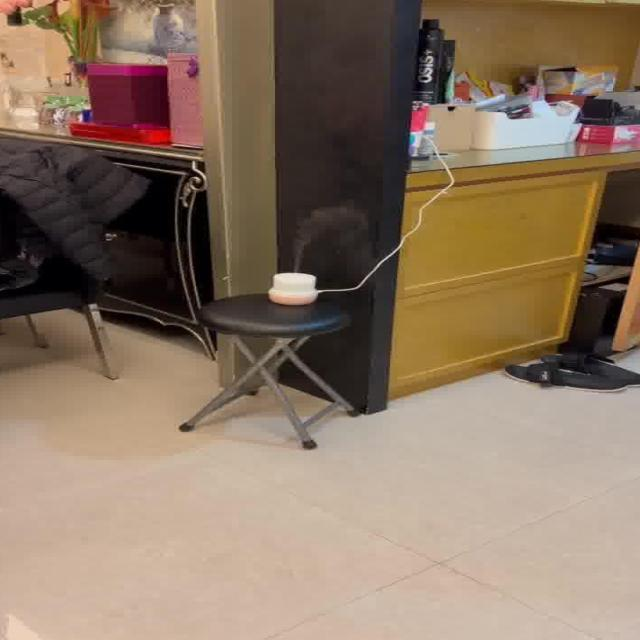fire: (286, 208, 364, 268)
